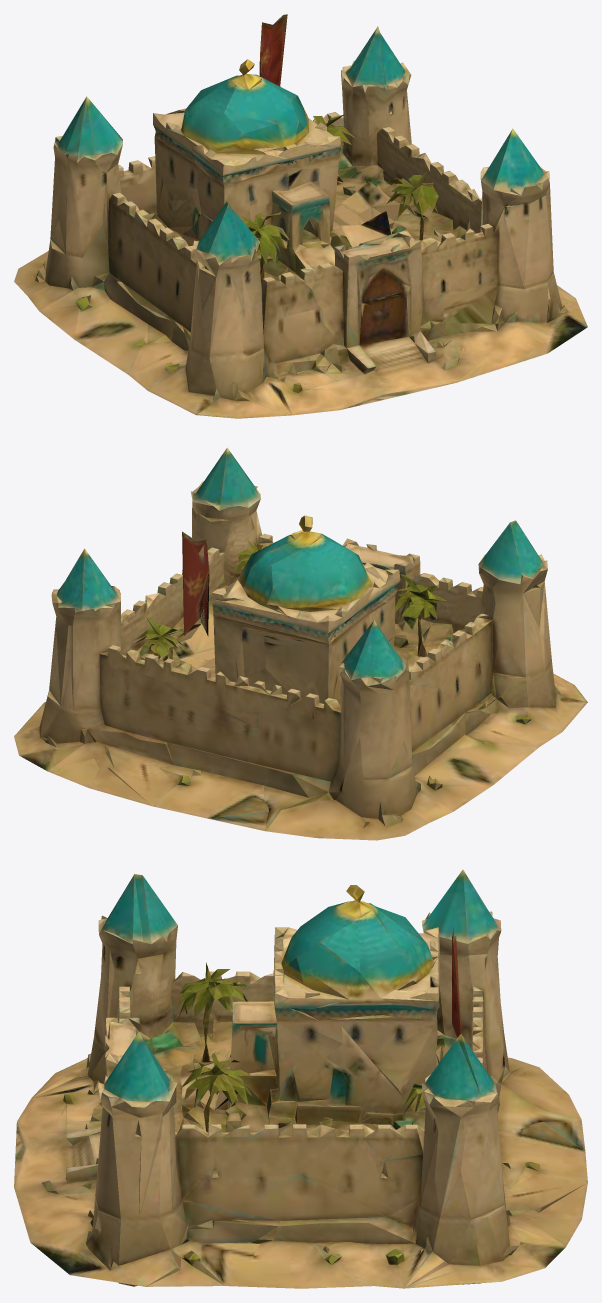
Rendered from fort.glb.
The picture shows the model from 3 angles, top to bottom: view 1: azimuth 30°, elevation 25°; view 2: azimuth 150°, elevation 25°; view 3: azimuth 270°, elevation 25°; orthographic projection. The views are drawn at different scales.
Bounding box in the file's own units: 1.86 × 1.06 × 1.89.
Materials: 1 (1 with a texture image).
